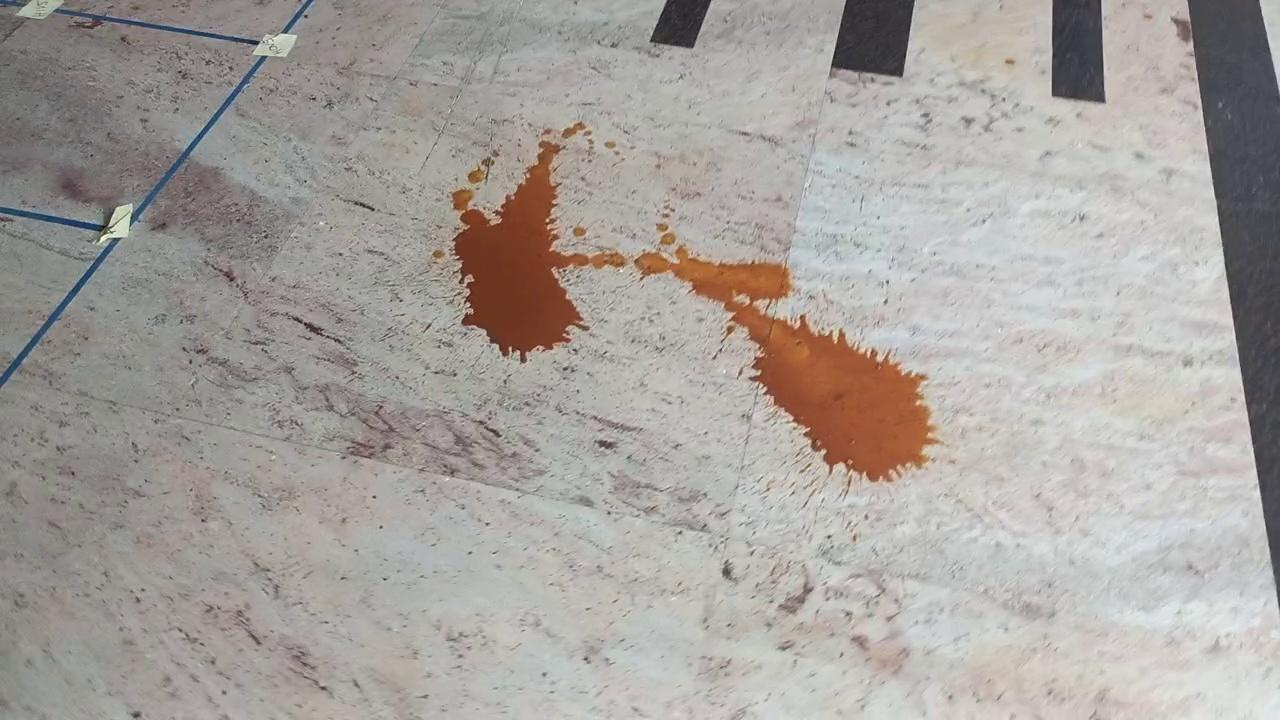dirty_floor: (441, 119, 935, 478)
